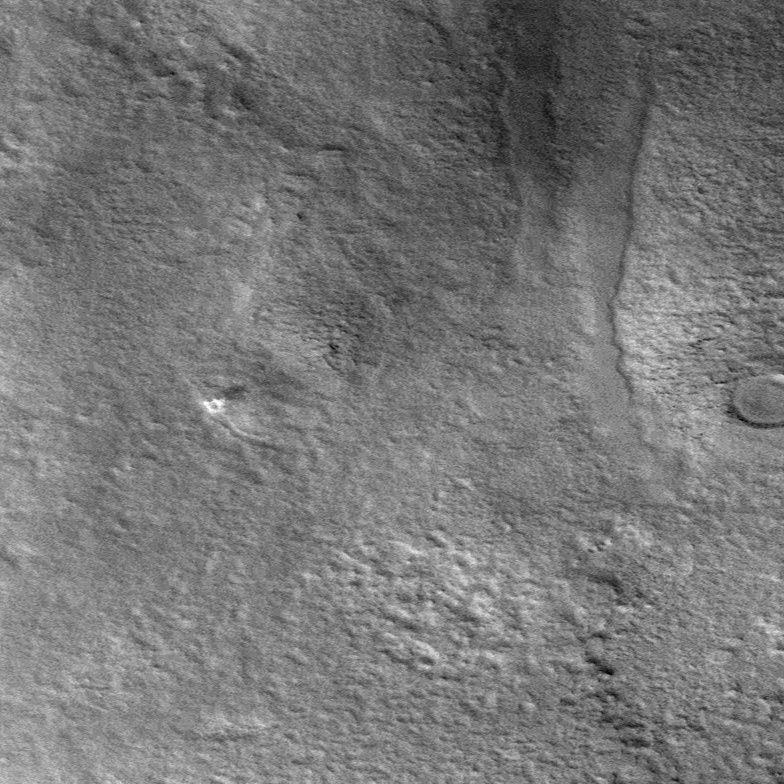dust_devil: (200, 383, 251, 419)
